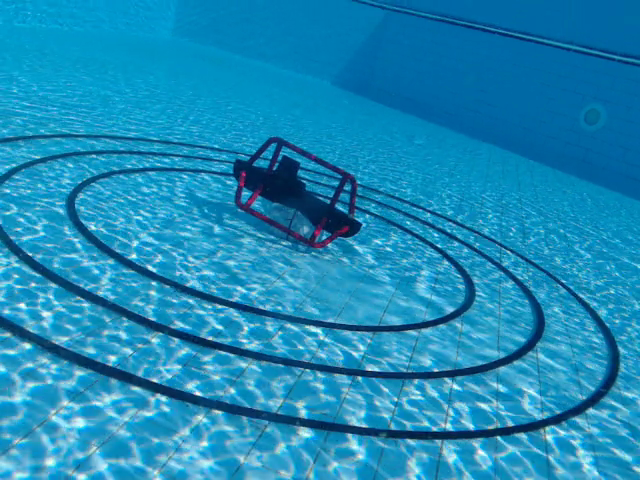submarine: (231, 135, 365, 251)
